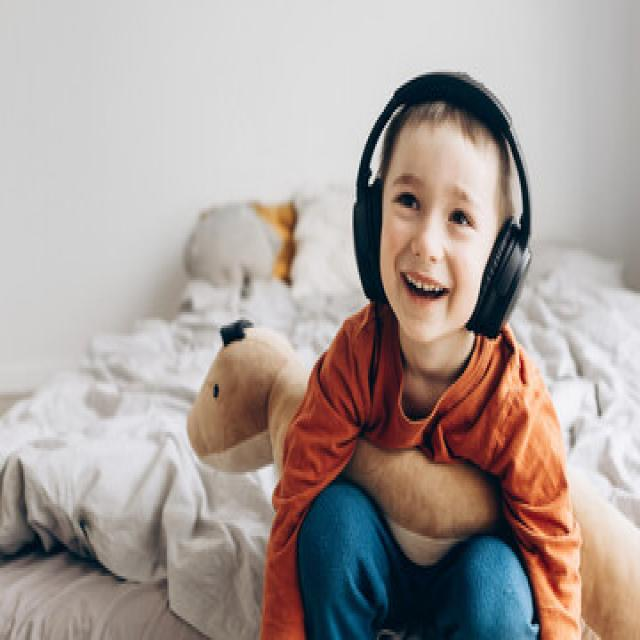Headphone: (351, 65, 532, 343)
